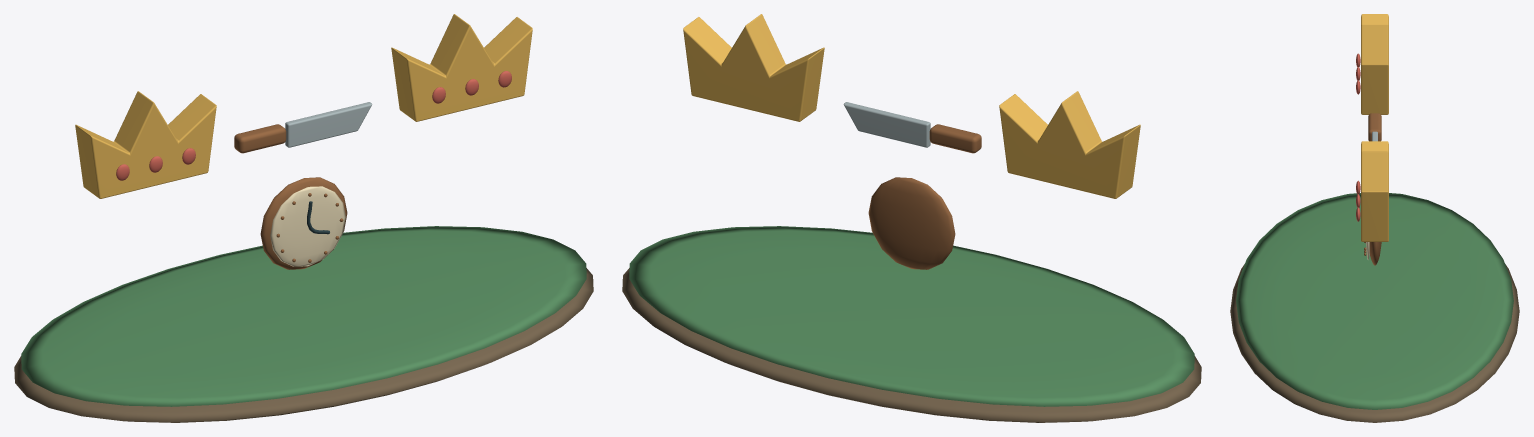
Rendered from complete-second-two-kings-shift.glb.
The picture shows the model from 3 angles, left to right: view 1: azimuth 30°, elevation 25°; view 2: azimuth 150°, elevation 25°; view 3: azimuth 270°, elevation 25°; orthographic projection. The views are drawn at different scales.
Parts seen in each view (by area): view 1: complete-second-two-kings-shift_surface_01, complete-second-two-kings-shift_surface_02, complete-second-two-kings-shift_surface_00, complete-second-two-kings-shift_surface_06, complete-second-two-kings-shift_surface_04, complete-second-two-kings-shift_surface_05, complete-second-two-kings-shift_surface_03; view 2: complete-second-two-kings-shift_surface_01, complete-second-two-kings-shift_surface_02, complete-second-two-kings-shift_surface_00, complete-second-two-kings-shift_surface_04, complete-second-two-kings-shift_surface_05; view 3: complete-second-two-kings-shift_surface_01, complete-second-two-kings-shift_surface_02, complete-second-two-kings-shift_surface_00, complete-second-two-kings-shift_surface_04, complete-second-two-kings-shift_surface_03.
Boxes of the visible parts, x1,y1,x2,y2 form: complete-second-two-kings-shift_surface_01: [21, 226, 586, 406]; complete-second-two-kings-shift_surface_02: [75, 14, 532, 198]; complete-second-two-kings-shift_surface_00: [14, 268, 593, 422]; complete-second-two-kings-shift_surface_06: [270, 186, 345, 266]; complete-second-two-kings-shift_surface_04: [234, 124, 347, 269]; complete-second-two-kings-shift_surface_05: [285, 102, 372, 147]; complete-second-two-kings-shift_surface_03: [116, 71, 511, 180]; complete-second-two-kings-shift_surface_01: [629, 226, 1194, 406]; complete-second-two-kings-shift_surface_02: [683, 14, 1140, 198]; complete-second-two-kings-shift_surface_00: [622, 268, 1201, 422]; complete-second-two-kings-shift_surface_04: [868, 124, 981, 269]; complete-second-two-kings-shift_surface_05: [843, 102, 930, 147]; complete-second-two-kings-shift_surface_01: [1236, 193, 1513, 409]; complete-second-two-kings-shift_surface_02: [1361, 14, 1388, 241]; complete-second-two-kings-shift_surface_00: [1230, 264, 1519, 422]; complete-second-two-kings-shift_surface_04: [1364, 113, 1381, 265]; complete-second-two-kings-shift_surface_03: [1356, 53, 1360, 221].
Bounding box in the file's own units: 4.56 × 2.26 × 2.5.
